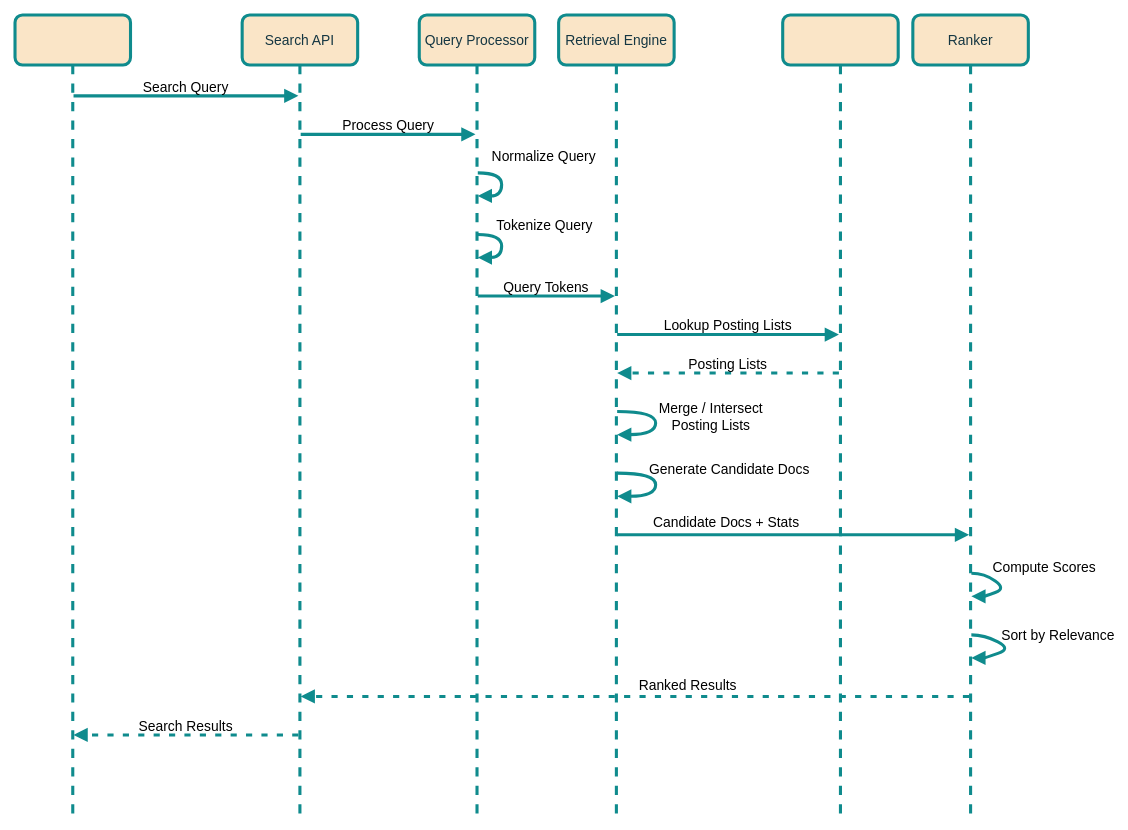
This 1128x830 diagram has some shape labels left out. Here are the shapes that lost their labels. From the top down, the box of each, then its label:
(13, 13, 132, 817): User
(781, 13, 899, 817): Inverted Index
